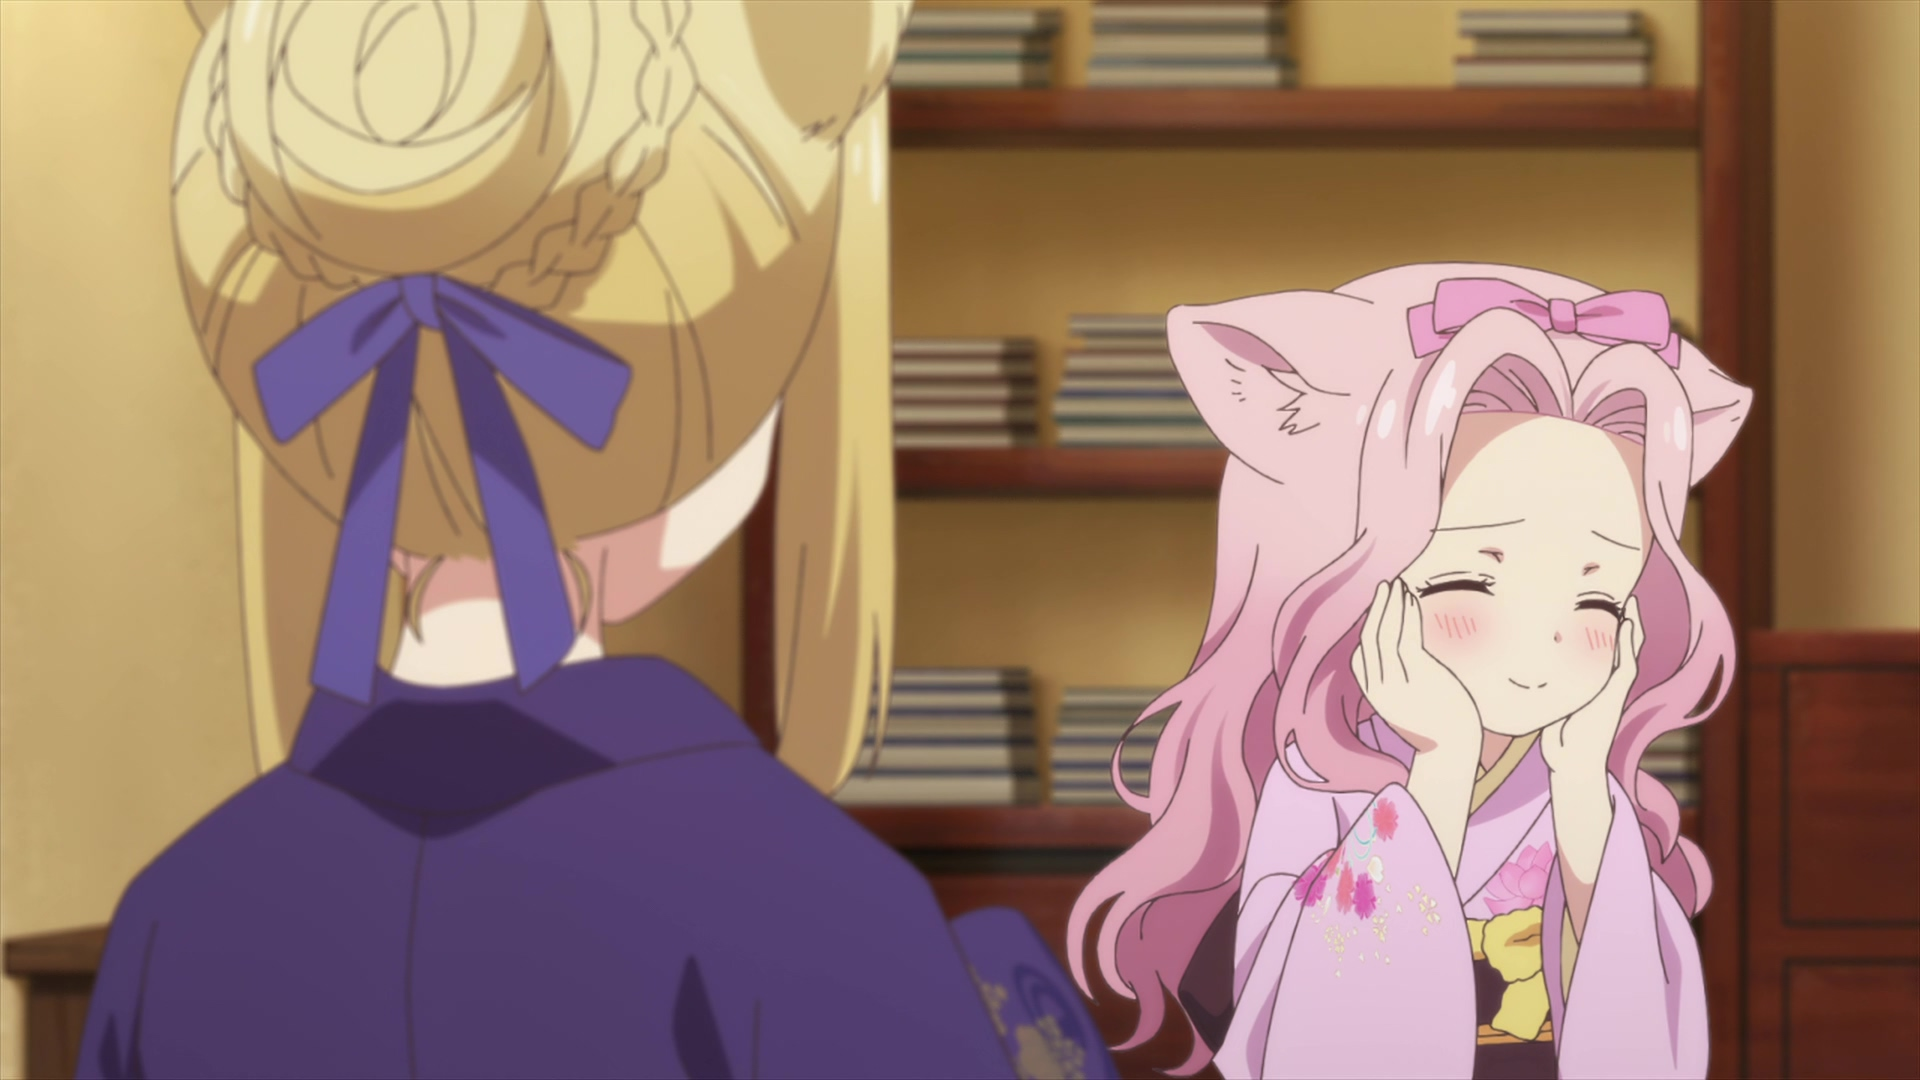桐: (80, 1, 1110, 1080)
莲: (1065, 265, 1753, 1080)
